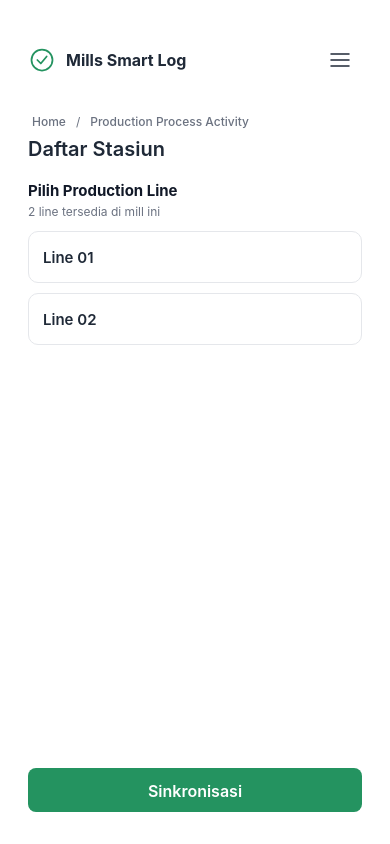
Scenario: StationListView — Production Line picker step › reopens the picker from the switcher and loads the newly chosen Production Line
This screenshot has width=390, height=844.
Click the button with test id "production-line-option-pl-1": (68, 257) [28,231,362,283]
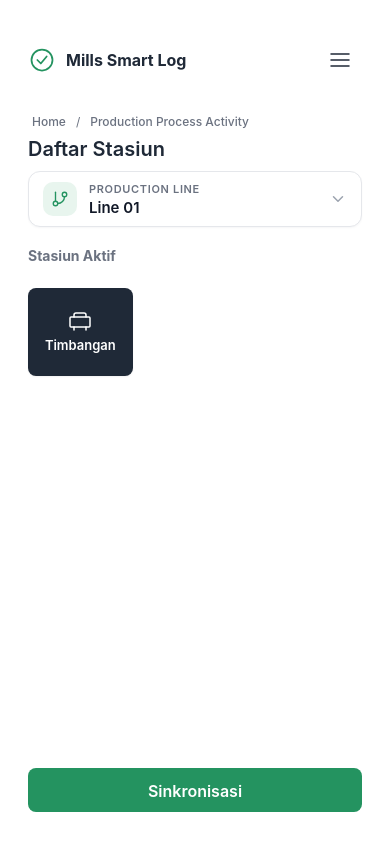
Click the button with test id "production-line-switcher": (60, 199) [28,171,362,227]
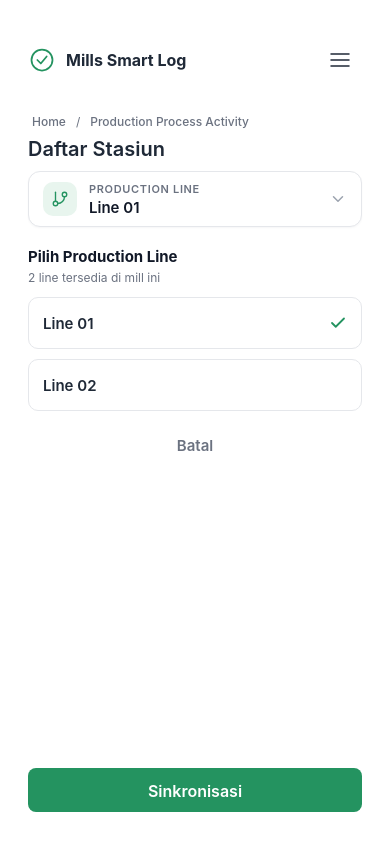
Expected: the element with test id "production-line-picker" is shown, [28,247,362,467]
Click the button with test id "production-line-option-pl-2": (70, 385) [28,359,362,411]
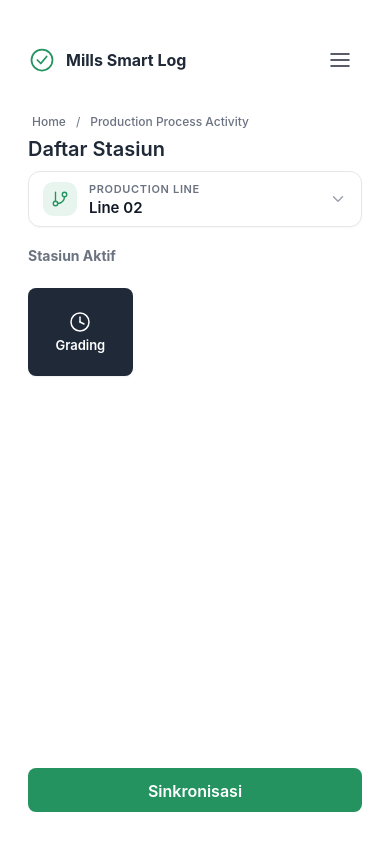
Expected: the button with test id "production-line-switcher" shows "Line 02", [28,171,362,227]
